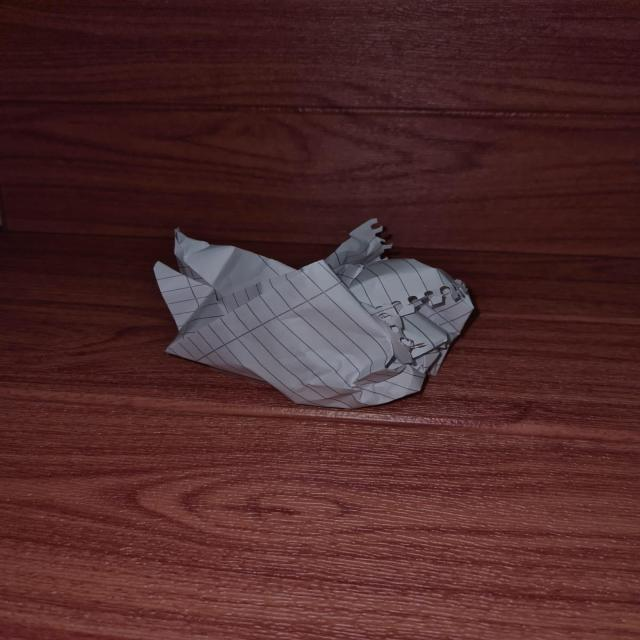Organik: (150, 230, 476, 402)
